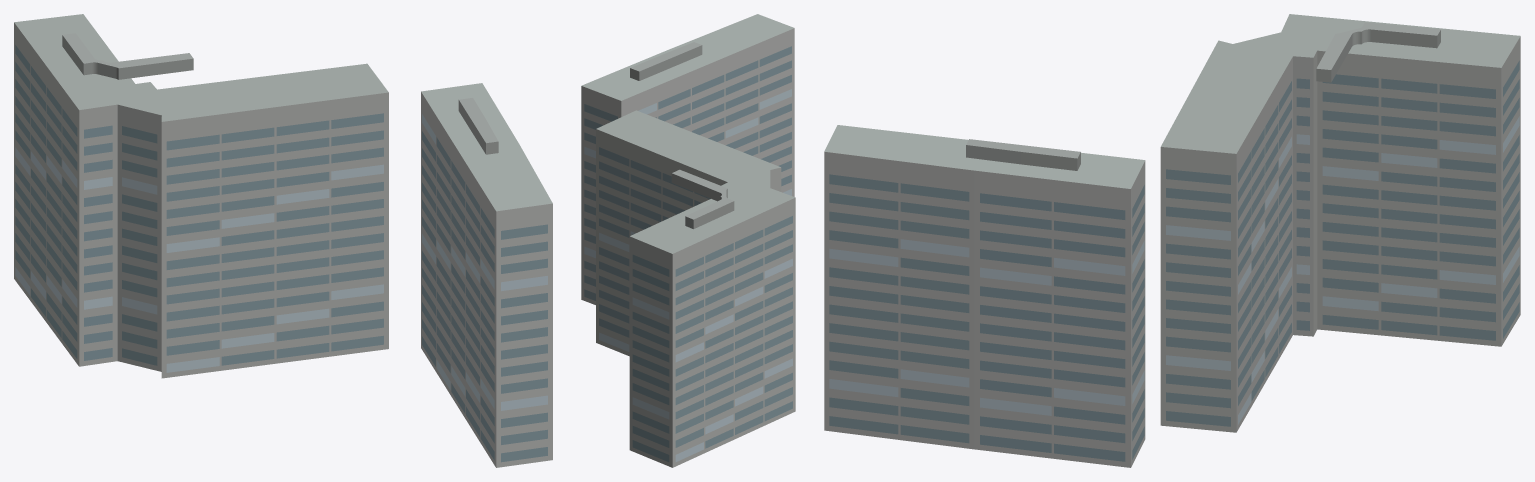
Rendered from apt-a13981304.glb.
3 renders of one model, left to right at view 1: azimuth 30°, elevation 25°; view 2: azimuth 150°, elevation 25°; view 3: azimuth 270°, elevation 25°, orthographic. The views are drawn at different scales.
Parts seen in each view (by area): view 1: apt-a13981304; view 2: apt-a13981304; view 3: apt-a13981304.
Part boxes in pixels (x1=…): apt-a13981304: x1=14, y1=14, x2=552, y2=467; apt-a13981304: x1=581, y1=14, x2=795, y2=467; apt-a13981304: x1=824, y1=14, x2=1520, y2=467.
Bounding box in the file's own units: 61.62 × 47.81 × 104.
